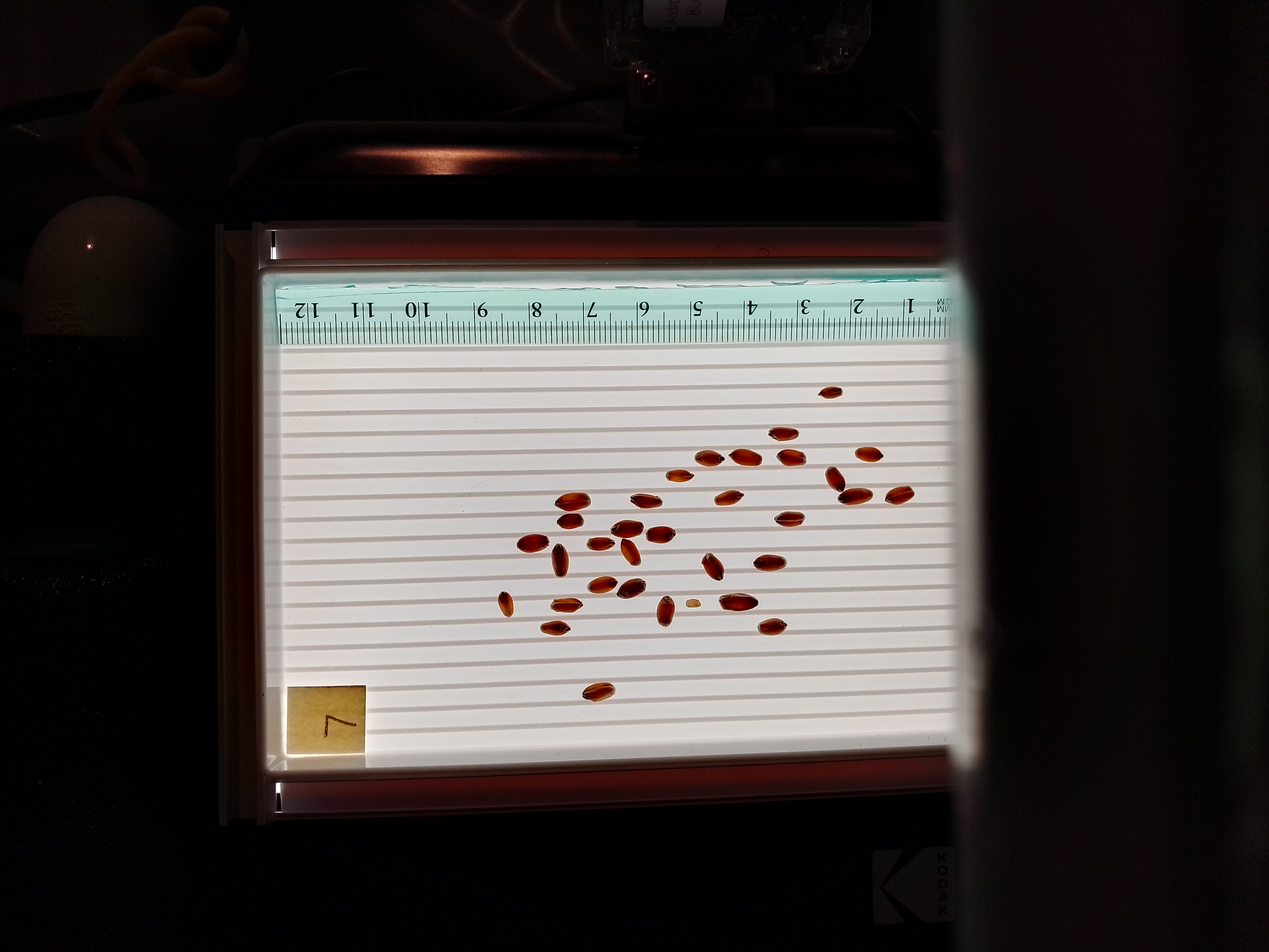seed mask: (720, 594, 756, 611), (556, 492, 590, 510), (517, 534, 549, 553), (754, 554, 786, 572), (584, 683, 614, 702), (839, 488, 872, 505), (552, 545, 569, 578), (703, 554, 724, 580), (656, 596, 674, 626), (612, 521, 643, 538), (618, 579, 645, 598), (732, 449, 761, 466), (589, 576, 616, 594), (759, 618, 786, 636), (886, 487, 913, 505), (620, 541, 640, 565), (825, 469, 845, 492), (557, 513, 584, 530), (647, 527, 674, 544), (552, 598, 582, 613), (541, 621, 569, 637), (632, 493, 661, 508), (775, 512, 804, 527), (715, 490, 742, 506), (696, 450, 723, 466), (497, 592, 514, 617), (779, 450, 805, 466), (769, 427, 798, 441), (856, 447, 882, 462), (587, 537, 614, 551), (666, 469, 693, 483), (819, 386, 842, 399), (686, 598, 700, 608)
